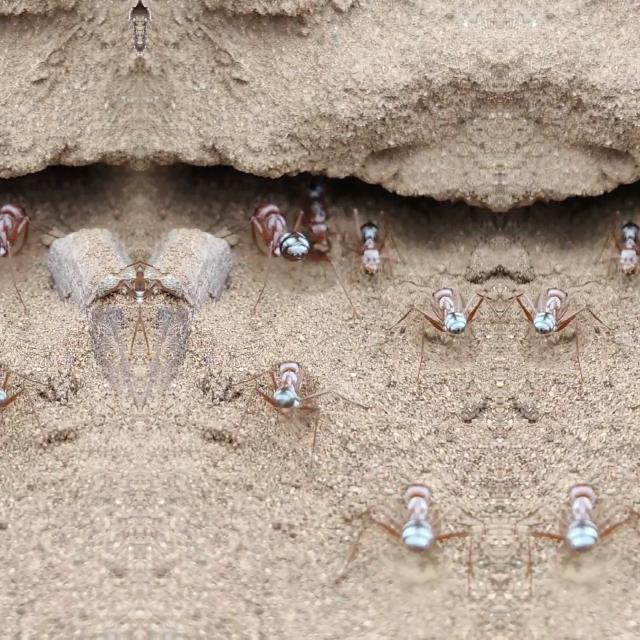Cataglyphis: (354, 443, 481, 631), (518, 443, 640, 631), (401, 262, 487, 370), (513, 262, 599, 370), (242, 187, 312, 279), (256, 340, 324, 432), (346, 205, 416, 292), (584, 204, 640, 290), (300, 161, 340, 281), (140, 238, 174, 338), (106, 238, 140, 338), (0, 187, 36, 279), (0, 340, 24, 432)
